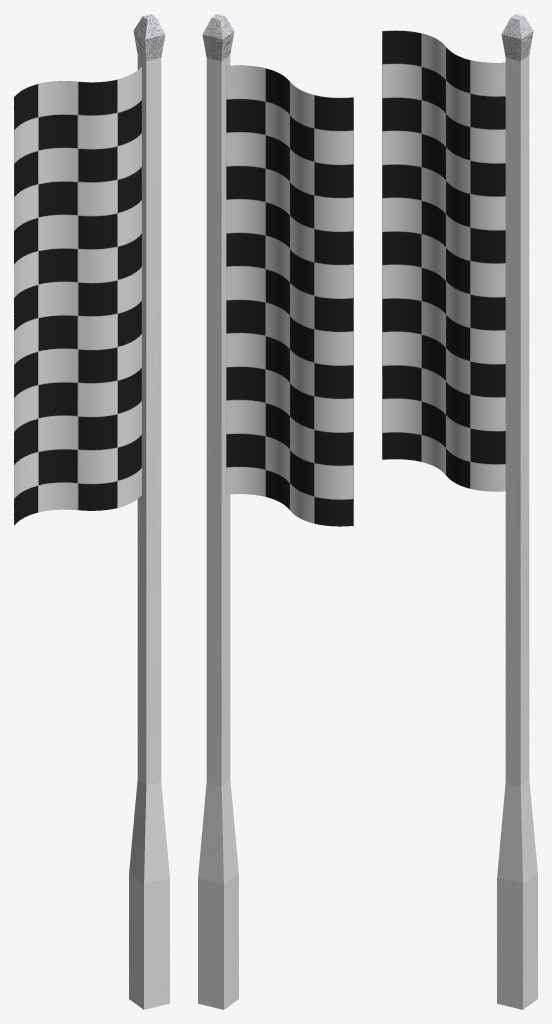
Rendered from kit_flagCheckers.obj.
The picture shows the model from 3 angles, left to right: view 1: azimuth 30°, elevation 25°; view 2: azimuth 150°, elevation 25°; view 3: azimuth 330°, elevation 25°; orthographic projection.
Visible parts, largest first — view 1: flagCheckers, Group; view 2: flagCheckers, Group; view 3: flagCheckers, Group.
Boxes of the visible parts, left/top/right/bottom form: flagCheckers: left=14, top=66, right=141, bottom=525; Group: left=129, top=14, right=169, bottom=1009; flagCheckers: left=226, top=65, right=353, bottom=526; Group: left=198, top=14, right=238, bottom=1009; flagCheckers: left=382, top=30, right=505, bottom=491; Group: left=497, top=14, right=537, bottom=1009.
Bounding box in the file's own units: 0.1972 × 1.25 × 0.0352.
